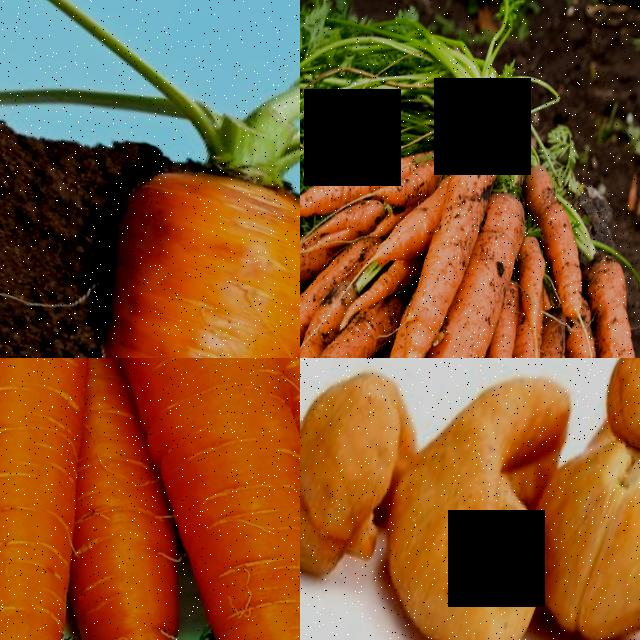carrot: (28, 96, 300, 358), (0, 358, 152, 640), (372, 96, 523, 358), (44, 358, 300, 497), (392, 150, 554, 358), (300, 106, 426, 210), (558, 206, 640, 358), (454, 284, 538, 358), (300, 248, 335, 358)
cashew: (350, 358, 592, 640), (300, 358, 448, 632), (531, 437, 640, 637)
